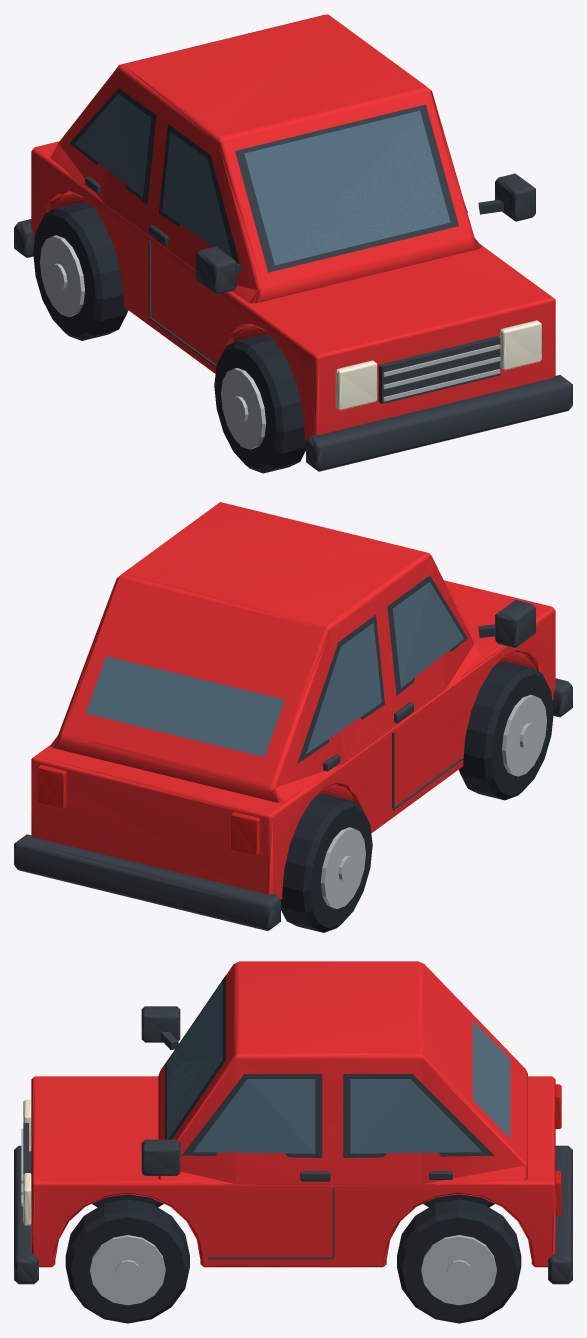
File: Red_Car.fbx
3 views of the same model, one above another, from view 1: azimuth 30°, elevation 25°; view 2: azimuth 150°, elevation 25°; view 3: azimuth 270°, elevation 25° (orthographic). The views are drawn at different scales.
Parts seen in each view (by area): view 1: Asset_Red_Car; view 2: Asset_Red_Car; view 3: Asset_Red_Car.
Boxes of the visible parts, x1,y1,x2,y2 form: Asset_Red_Car: (14,14,572,473); Asset_Red_Car: (14,502,572,932); Asset_Red_Car: (14,961,572,1323).
Bounding box in the file's own units: 2.47 × 2.05 × 4.05.
